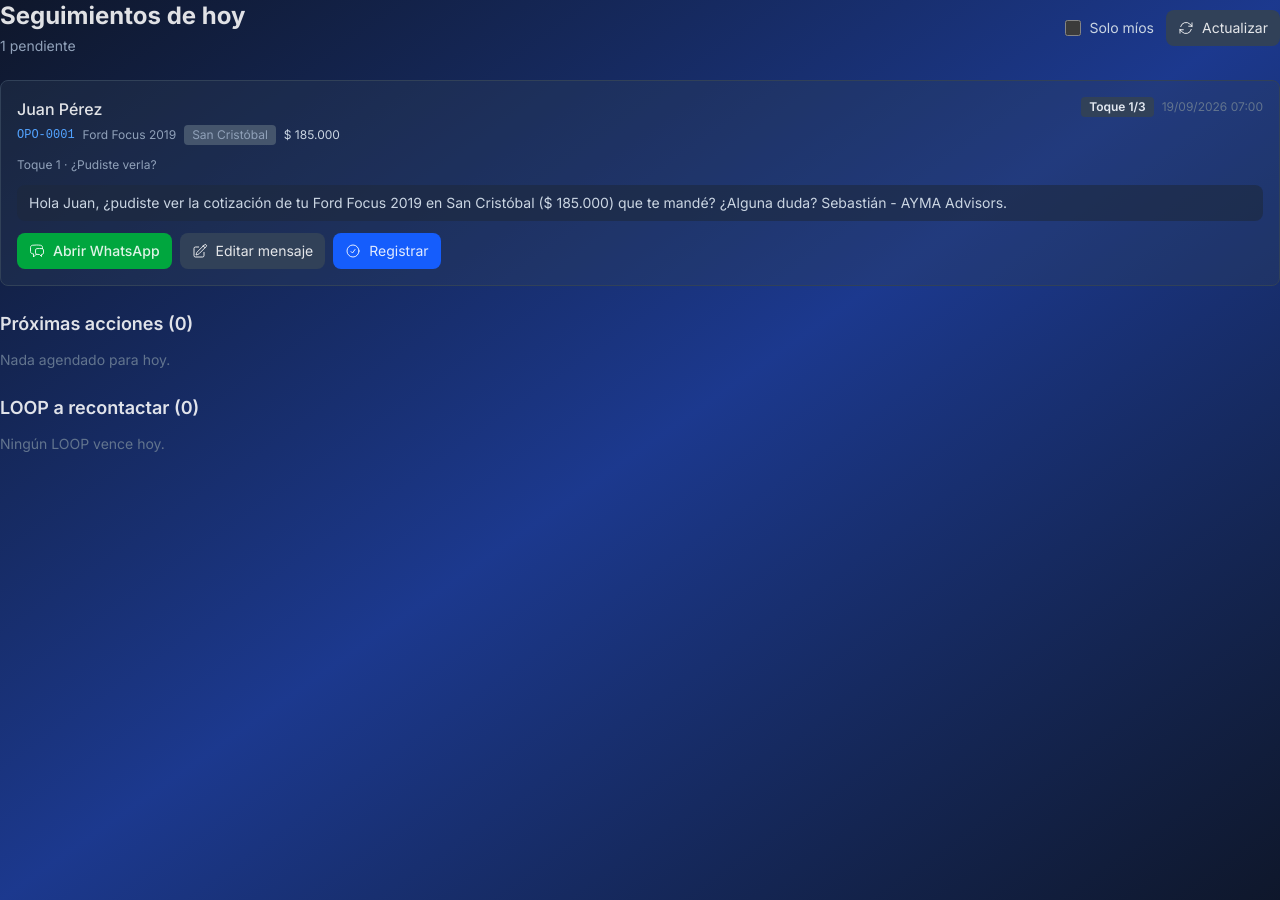
SeguimientosHoyPanel › "Registrar" manda el resultado y avisa cuándo es el próximo toque
Expected: the button "Juan Pérez" is shown, [17, 97, 102, 121]
Click the button "Registrar" at (387, 251), box [333, 233, 440, 269]
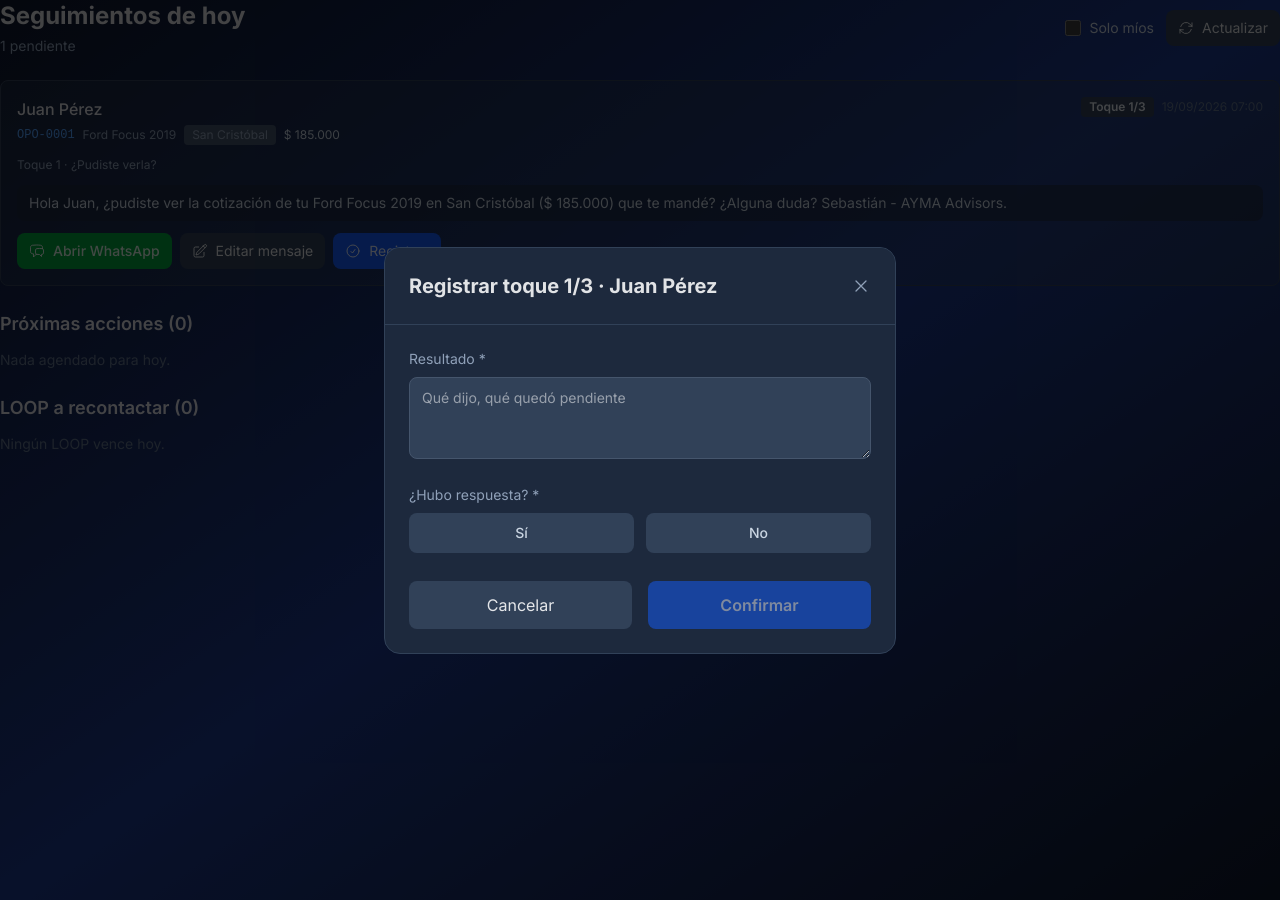
Type "No contestó" into the text box labelled "Resultado *" at (640, 418), box [409, 376, 871, 458]
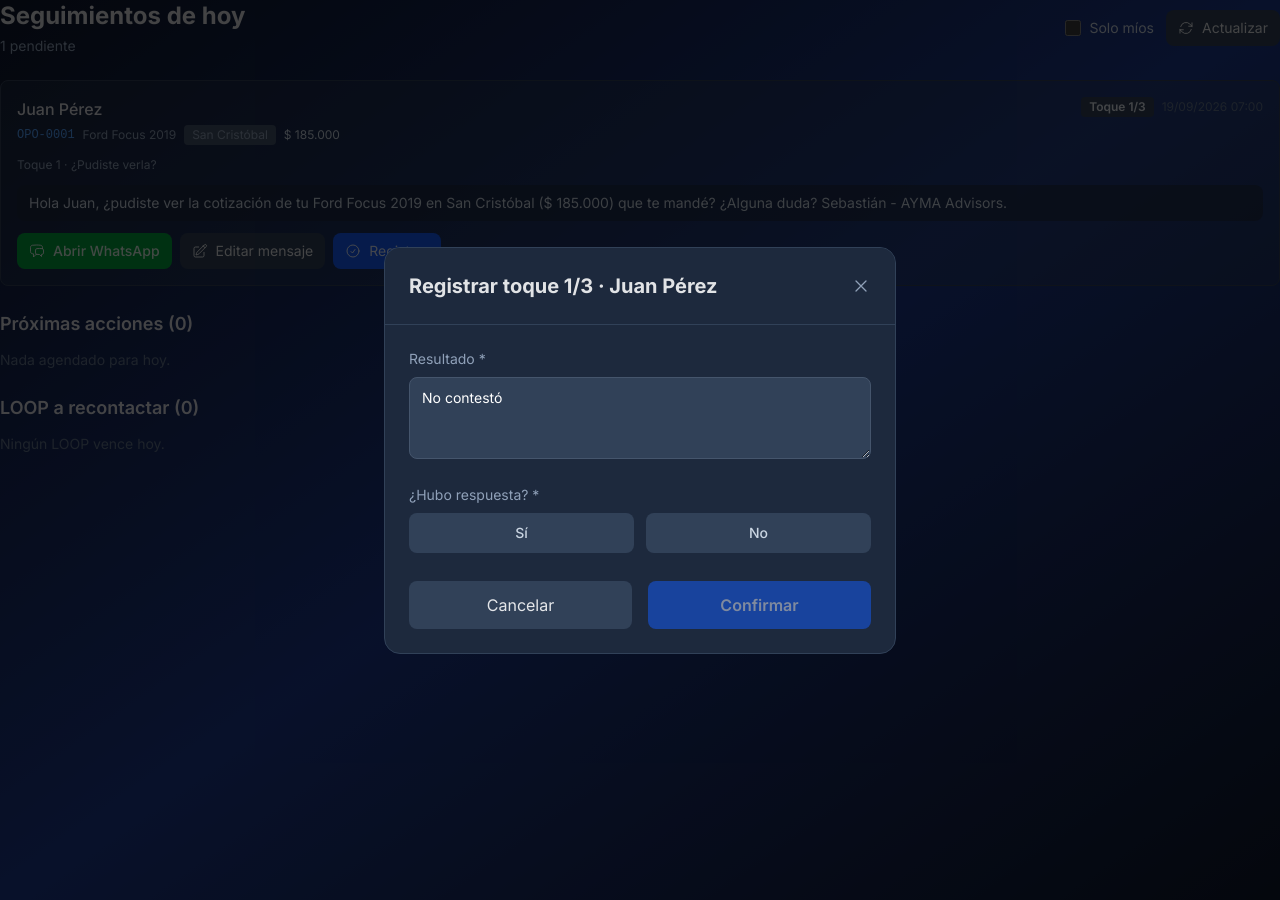
Click the radio button labelled "No" at (758, 532), box [646, 512, 871, 552]
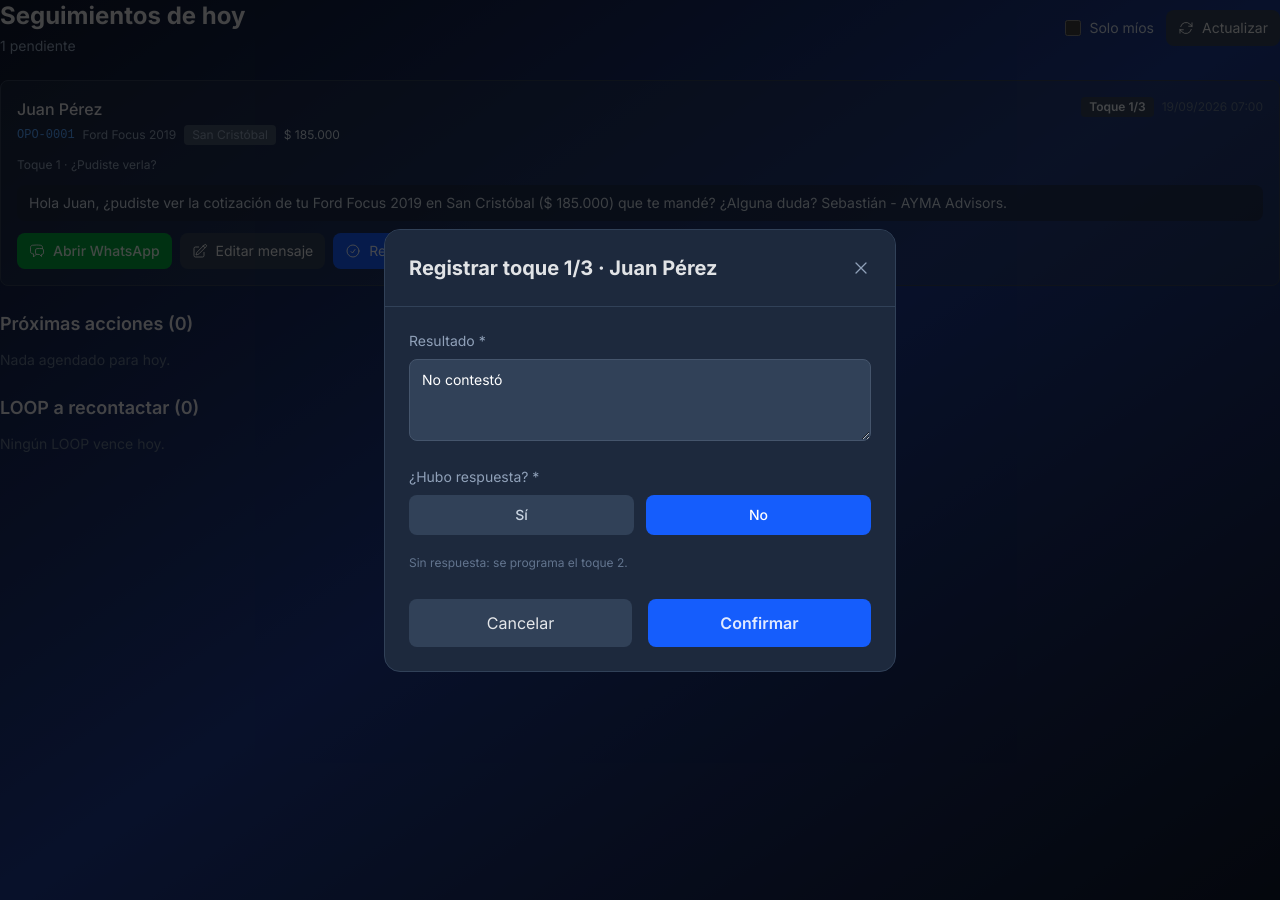
Click the button "Confirmar" at (760, 622), box [648, 598, 871, 646]
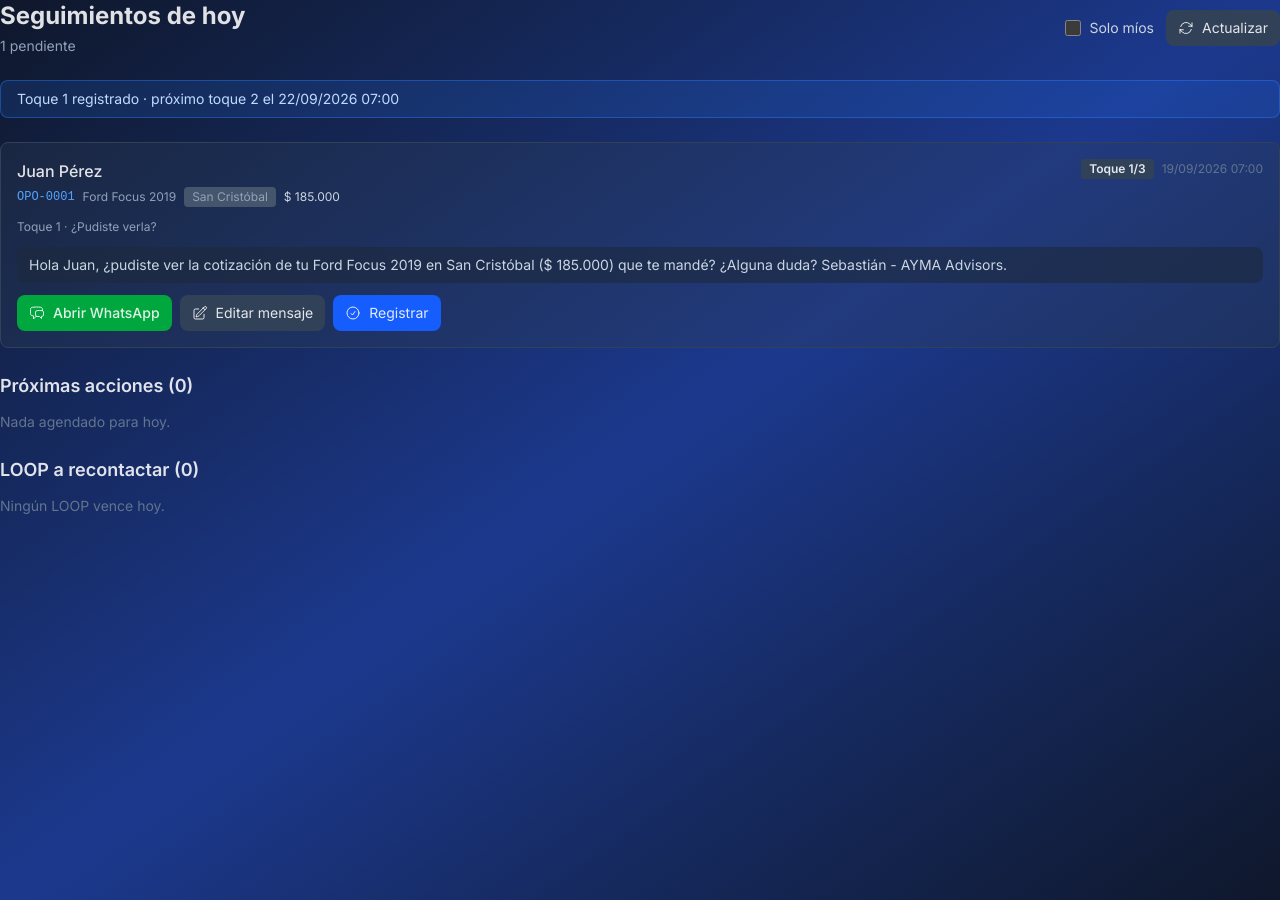
Result: the text "próximo toque 2" is shown at [17, 90, 399, 107]
